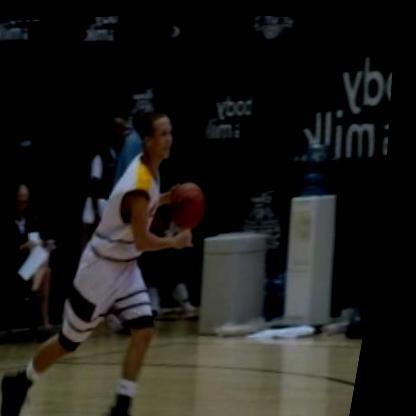basketball: (167, 170, 221, 239)
